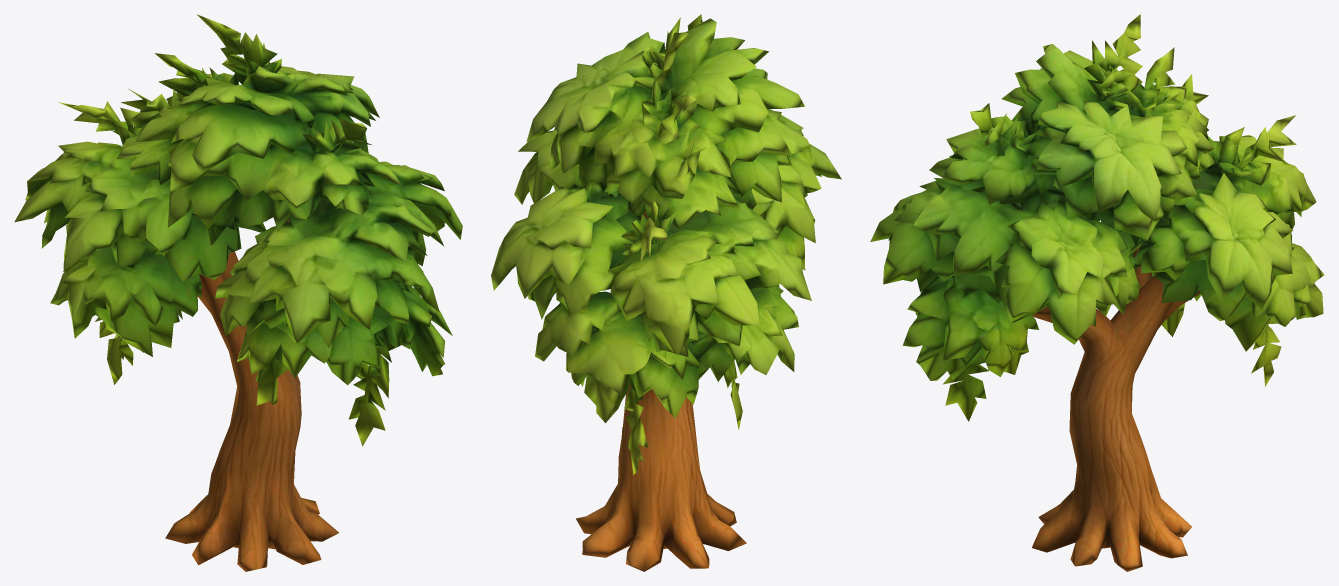
File: sapling.glb
3 renders of one model, left to right at view 1: azimuth 30°, elevation 25°; view 2: azimuth 150°, elevation 25°; view 3: azimuth 270°, elevation 25°, orthographic. The views are drawn at different scales.
Parts seen in each view (by area): view 1: tripo_node_7cc29b66-fa39-43c2-929d-0e7dc88fcf5c; view 2: tripo_node_7cc29b66-fa39-43c2-929d-0e7dc88fcf5c; view 3: tripo_node_7cc29b66-fa39-43c2-929d-0e7dc88fcf5c.
Boxes of the visible parts, x1,y1,x2,y2 form: tripo_node_7cc29b66-fa39-43c2-929d-0e7dc88fcf5c: (14,14,462,571); tripo_node_7cc29b66-fa39-43c2-929d-0e7dc88fcf5c: (491,14,841,571); tripo_node_7cc29b66-fa39-43c2-929d-0e7dc88fcf5c: (870,14,1324,571).
Bounding box in the file's own units: 0.6704 × 1 × 0.8171.
1 material, 1 textured.
